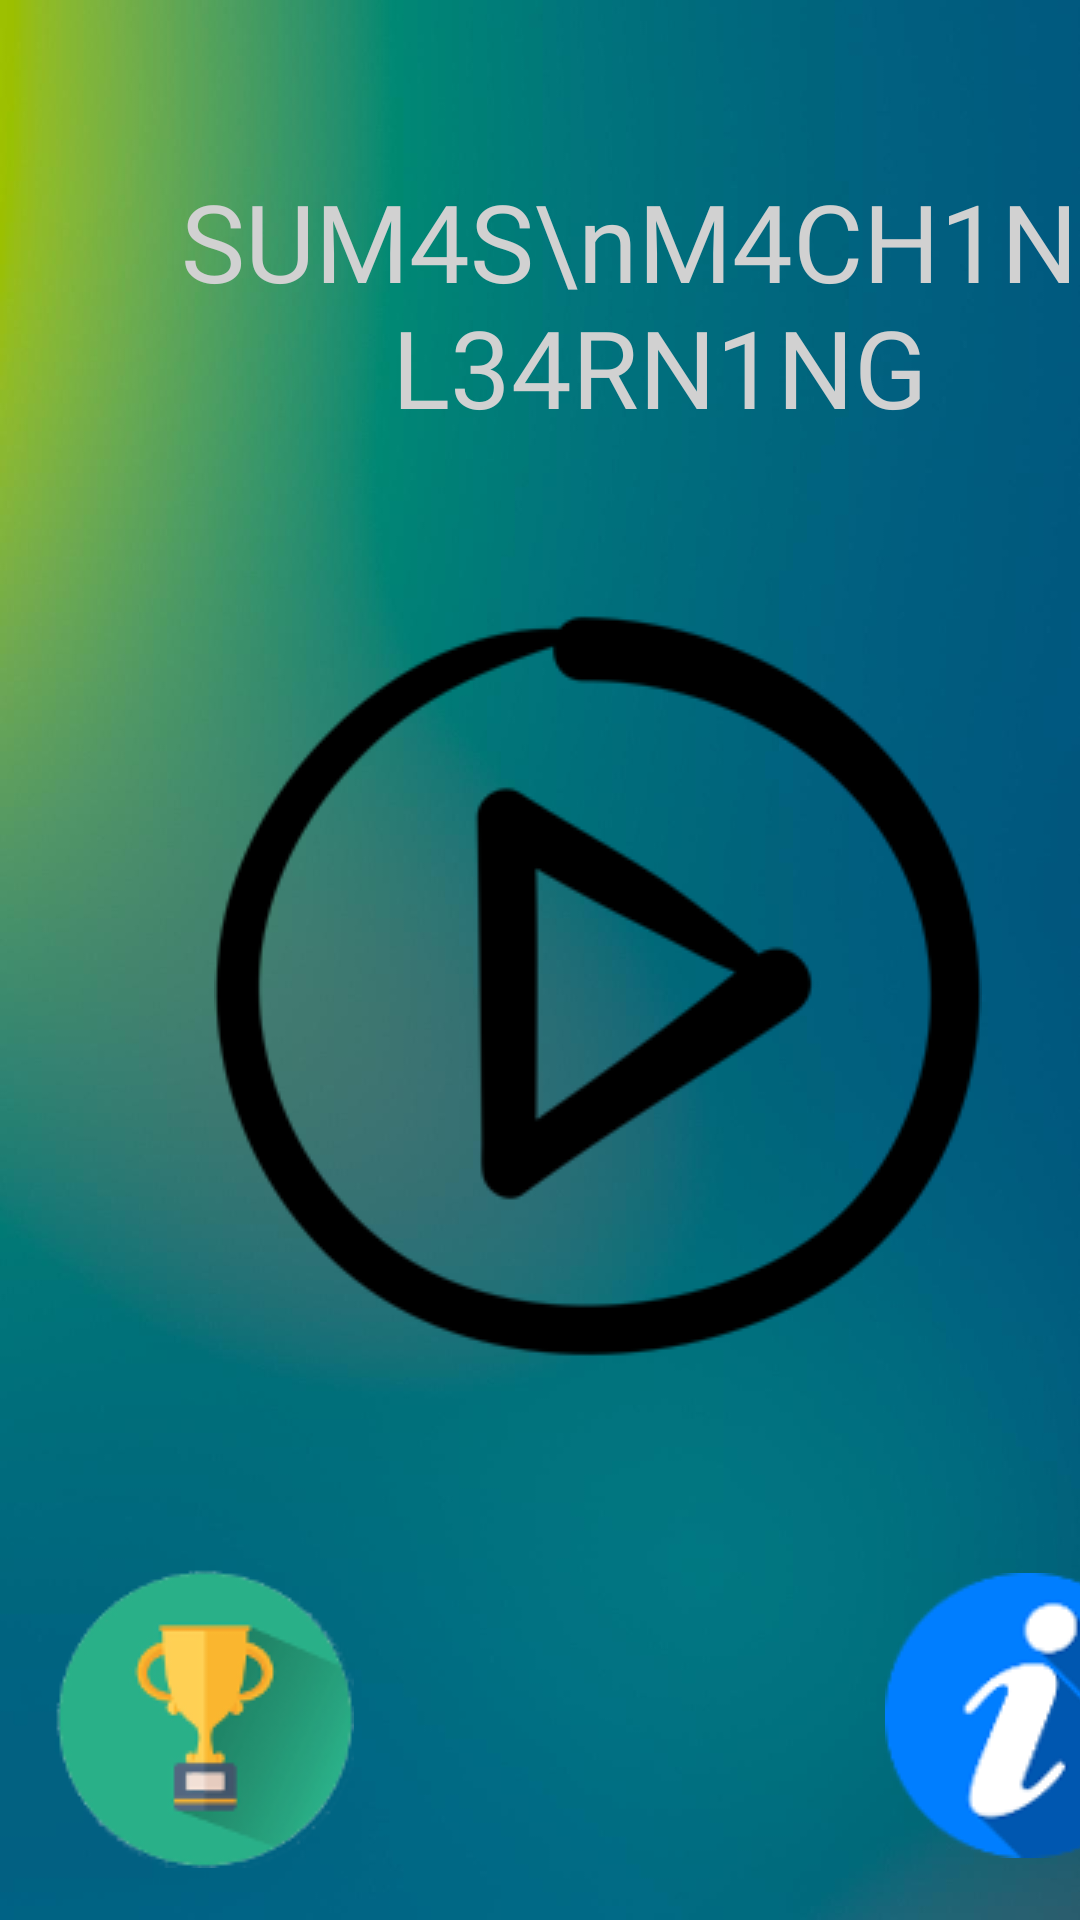

Named icons in this screenshot (1080 x 1920) and their centers, [x,y]:
trofeo: [205,1719]
